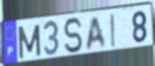3: (42, 19, 61, 59)
8: (131, 10, 148, 44)
A: (85, 16, 108, 52)
I: (109, 12, 117, 49)
M: (17, 23, 43, 60)
S: (62, 16, 85, 55)
